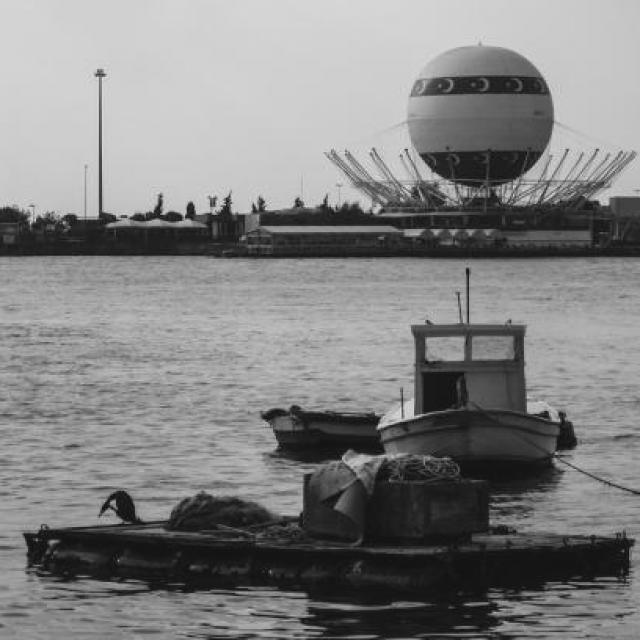ship: (363, 307, 588, 479)
